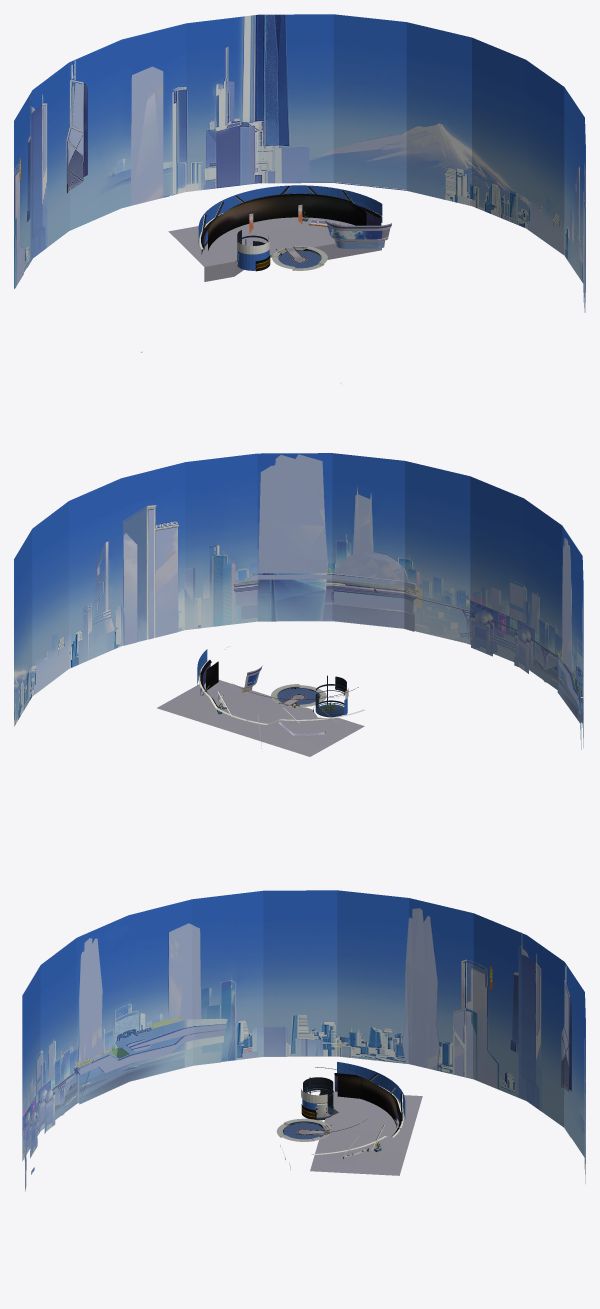
The model's file is stage.glb.
3 renders of one model, top to bottom at view 1: azimuth 30°, elevation 25°; view 2: azimuth 150°, elevation 25°; view 3: azimuth 270°, elevation 25°, orthographic.
Parts seen in each view (by area): view 1: E_Lobby_V13_Sky_01 (×2), E_Lobby_V13_Boli, E_Lobby_V13_Builiding (×2), E_Lobby_V13_04, E_Lobby_G_03, E_Lobby_V13_Glass_02, E_Lobby_V13_08; view 2: E_Lobby_V13_Sky_01 (×2), E_Lobby_V13_Boli, E_Lobby_V13_Builiding (×2), E_Lobby_V13_04, E_Lobby_V13_08; view 3: E_Lobby_V13_Sky_01 (×2), E_Lobby_V13_Boli, E_Lobby_V13_Builiding (×2), E_Lobby_V13_04, E_Lobby_G_03, E_Lobby_V13_07, E_Lobby_V13_Glass_02.
Boxes of the visible parts, box(x1,y1,x2,y2) form: E_Lobby_V13_Sky_01 (×2): box(14, 14, 585, 312); E_Lobby_V13_Boli: box(15, 66, 584, 312); E_Lobby_V13_Builiding (×2): box(14, 60, 584, 383); E_Lobby_V13_04: box(168, 217, 381, 281); E_Lobby_G_03: box(208, 194, 366, 250); E_Lobby_V13_Glass_02: box(198, 185, 382, 243); E_Lobby_V13_08: box(199, 210, 391, 249); E_Lobby_V13_Sky_01 (×2): box(14, 453, 583, 747); E_Lobby_V13_Boli: box(123, 454, 582, 751); E_Lobby_V13_Builiding (×2): box(123, 505, 584, 749); E_Lobby_V13_04: box(157, 680, 364, 756); E_Lobby_V13_08: box(198, 660, 365, 724); E_Lobby_V13_Sky_01 (×2): box(22, 890, 585, 1183); E_Lobby_V13_Boli: box(25, 908, 584, 1172); E_Lobby_V13_Builiding (×2): box(24, 932, 570, 1191); E_Lobby_V13_04: box(310, 1091, 422, 1175); E_Lobby_G_03: box(334, 1073, 396, 1127); E_Lobby_V13_07: box(301, 1077, 333, 1120); E_Lobby_V13_Glass_02: box(337, 1062, 405, 1118).
Size of the model in its own units: 349 by 161 by 354.
Materials: 22 (22 with a texture image).
